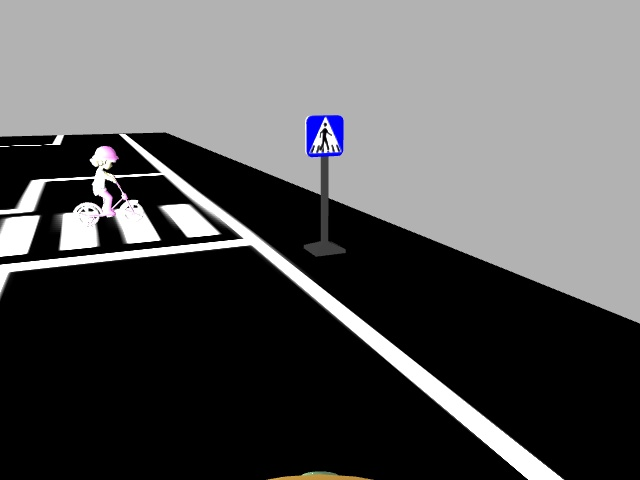Crosswalk: (304, 112, 348, 158)
Pedestrian: (72, 146, 152, 225)
